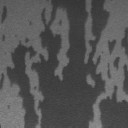red iron: (0, 0, 128, 128), (122, 26, 128, 56), (108, 40, 116, 55), (0, 6, 7, 22), (2, 34, 6, 42), (29, 21, 32, 26)
